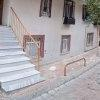stairs: (0, 24, 44, 93)
